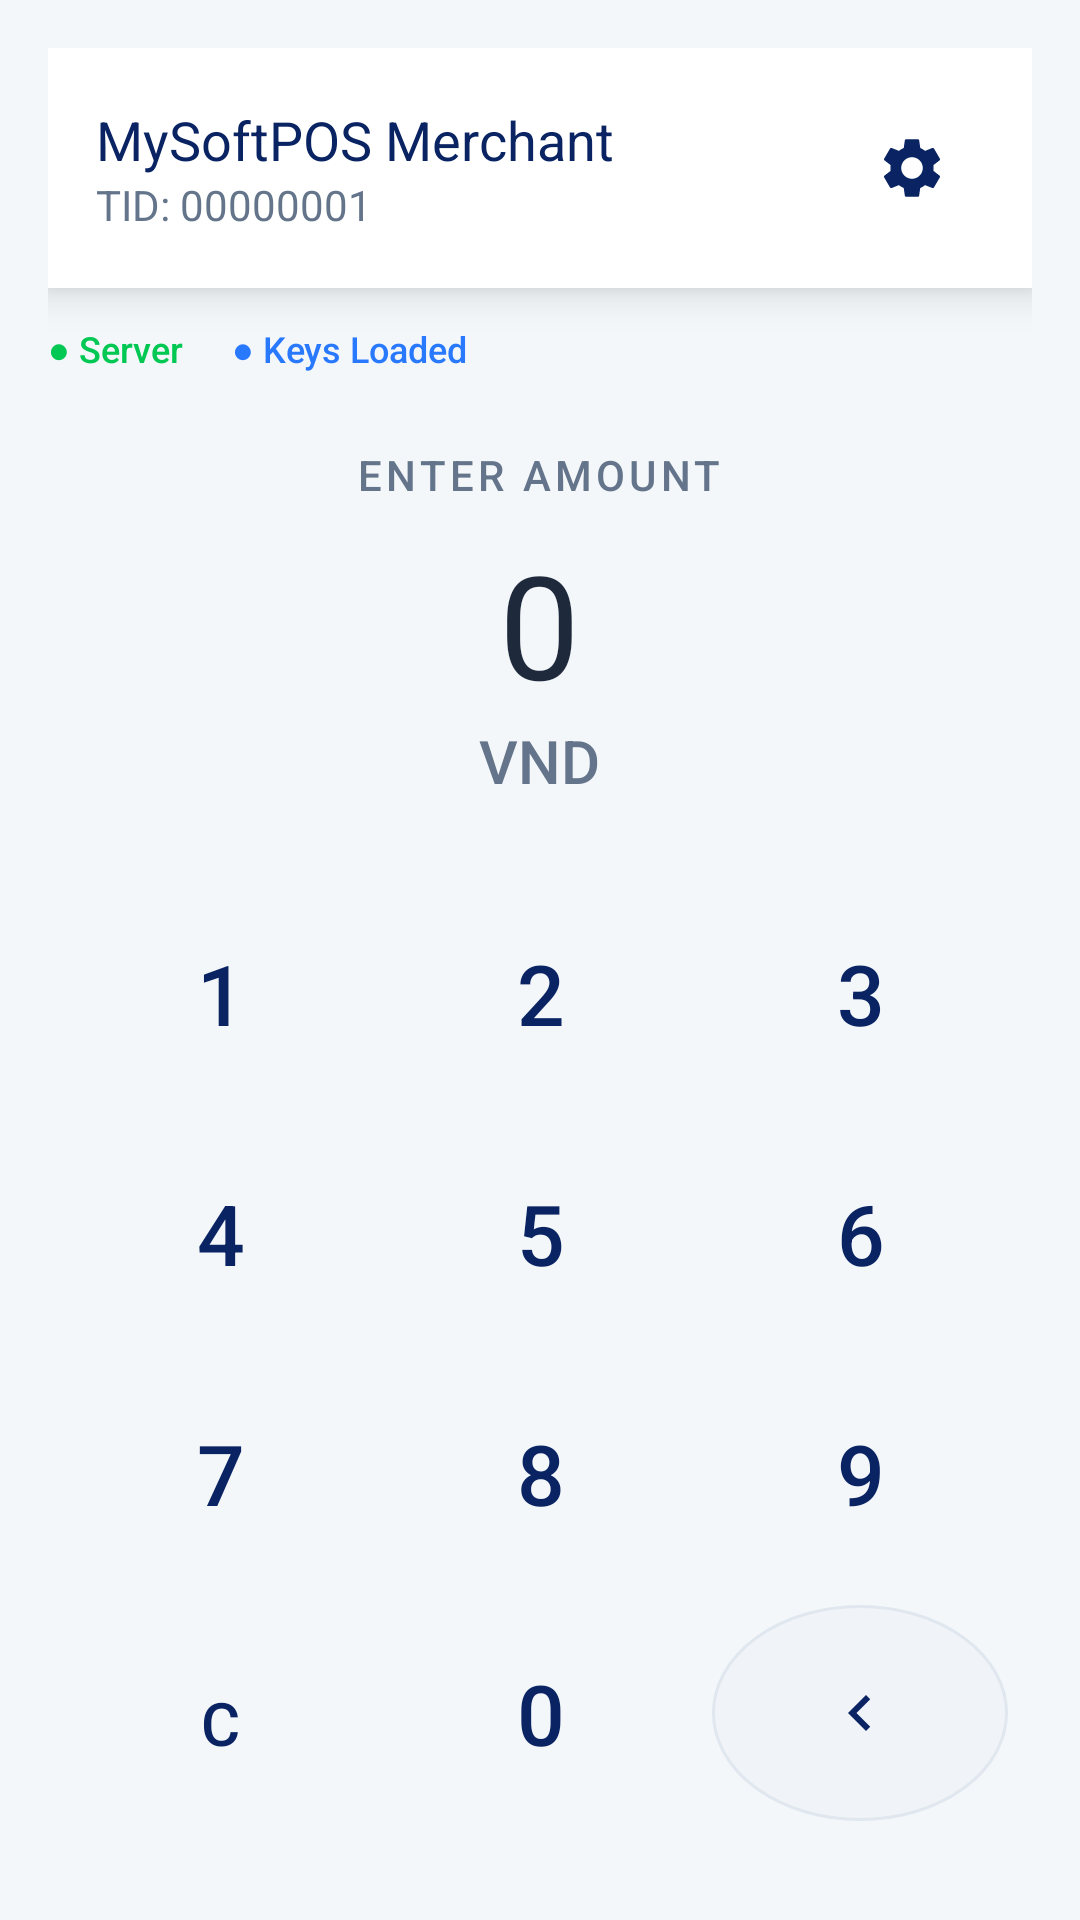

Icons on this 1080w x 1920h Android screen, each with the point to tap as (x,y):
Settings: (912,168)
